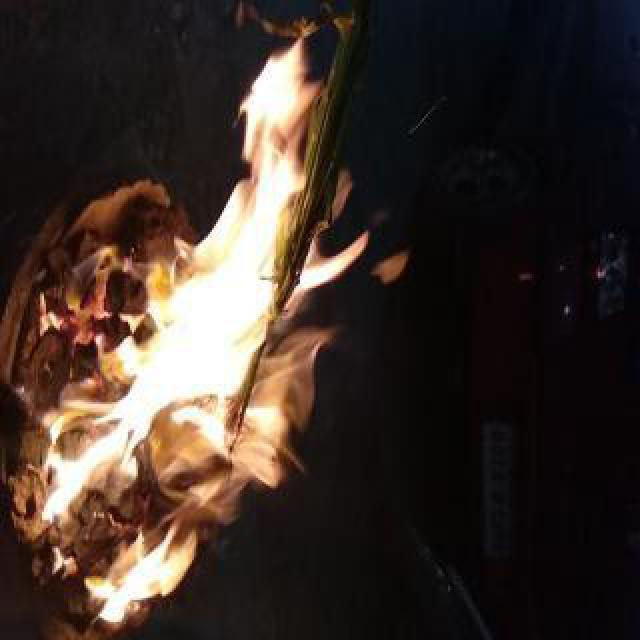Fire: (30, 36, 408, 628)
